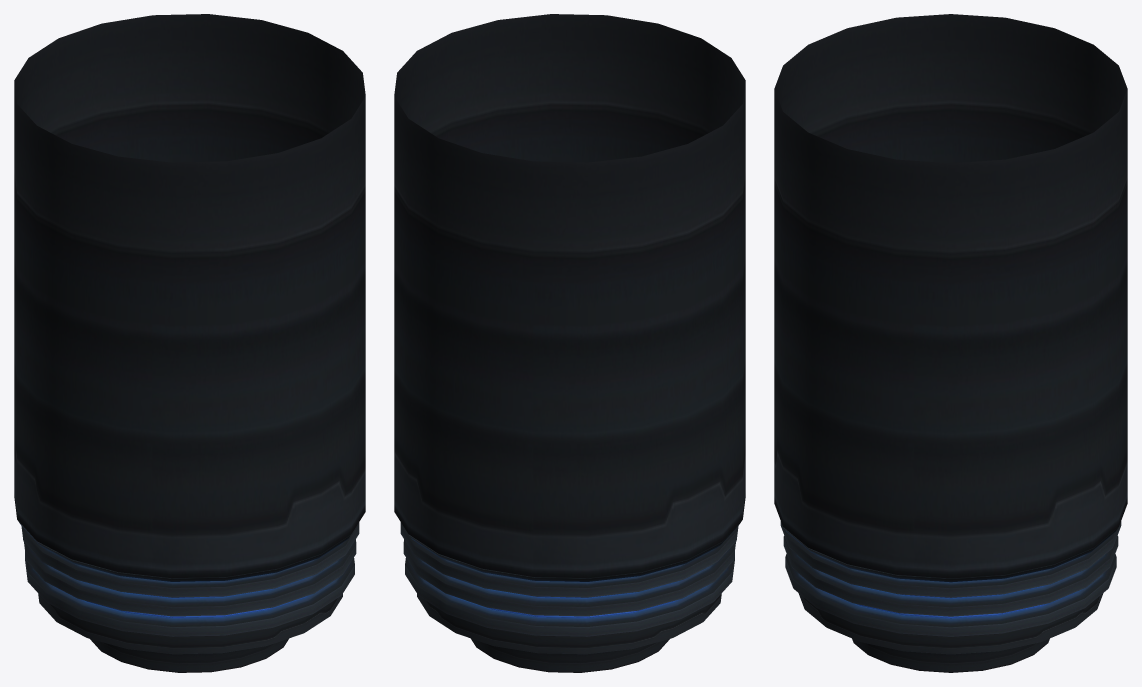
File: ts_zjmobj002.FBX
3 renders of one model, left to right at view 1: azimuth 30°, elevation 25°; view 2: azimuth 150°, elevation 25°; view 3: azimuth 270°, elevation 25°, orthographic.
Visible parts, largest first — view 1: ts_zjmobj002; view 2: ts_zjmobj002; view 3: ts_zjmobj002.
Boxes of the visible parts, <box> form: ts_zjmobj002: <box>14,14,365,672</box>; ts_zjmobj002: <box>394,14,745,672</box>; ts_zjmobj002: <box>774,14,1127,672</box>.
Bounding box in the file's own units: 4.76 × 8.06 × 4.76.
